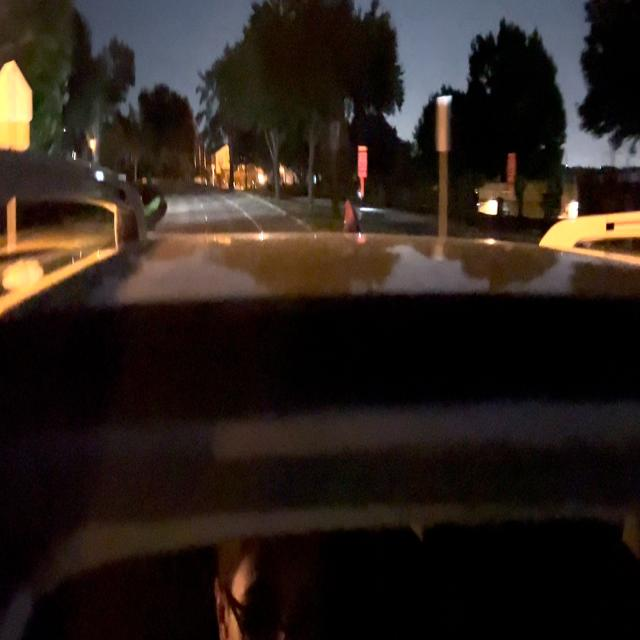back-of-sign: (0, 60, 32, 153)
